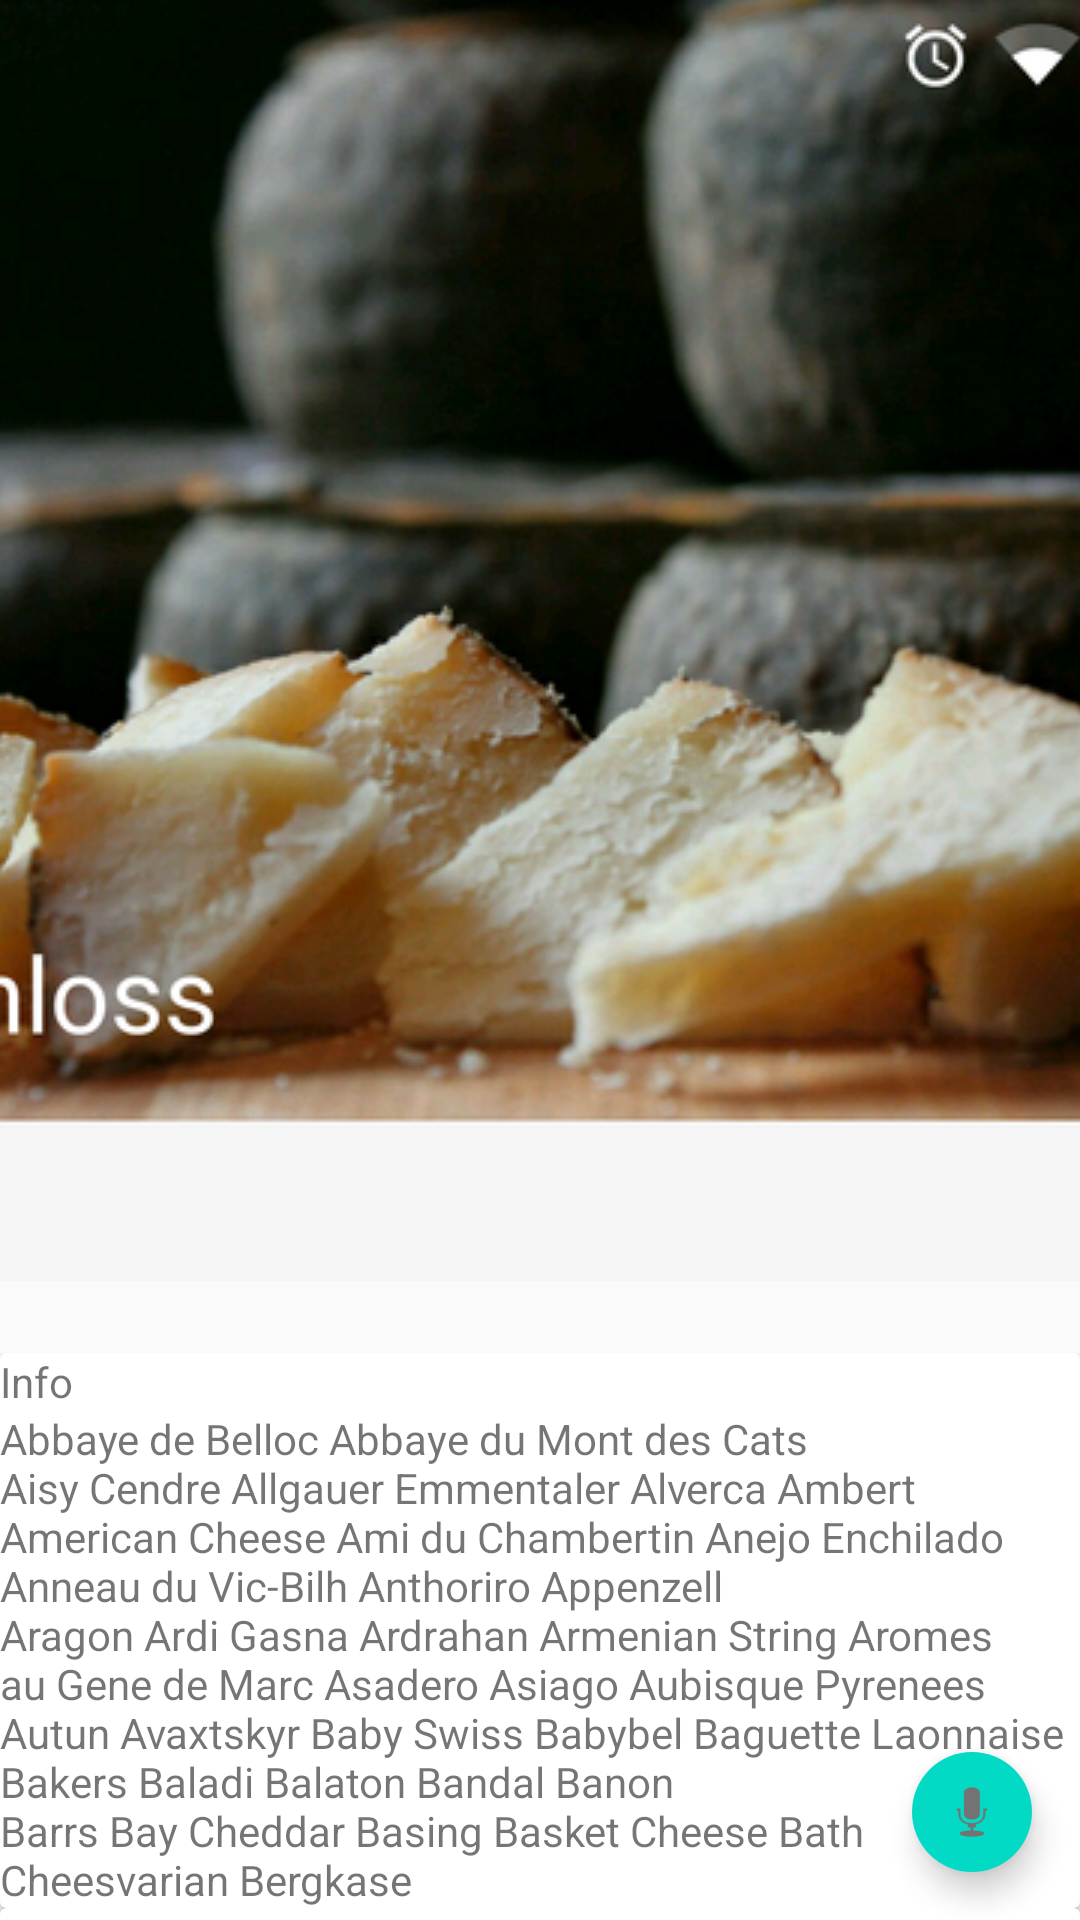

Point at icon controls on the screen. Image size 1080x1920, points as point (x, y).
speak now: point (972, 1812)
